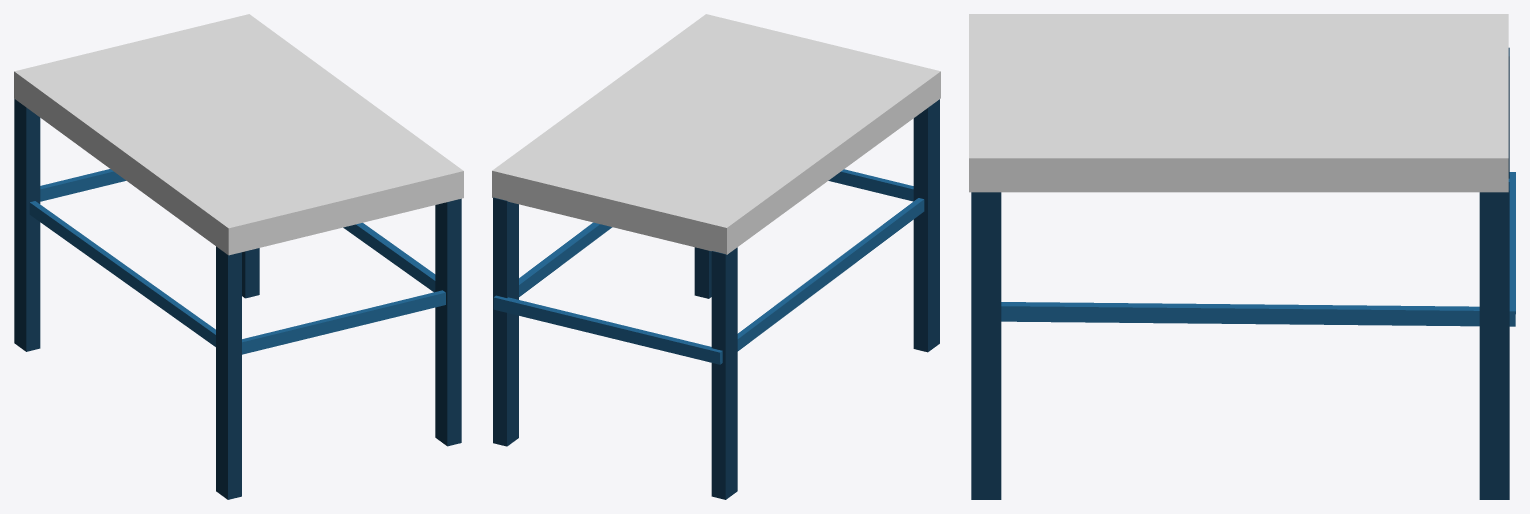
The model's file is Jail_SmallTable.fbx.
3 views of the same model, side by side, from view 1: azimuth 30°, elevation 25°; view 2: azimuth 150°, elevation 25°; view 3: azimuth 270°, elevation 25° (orthographic). The views are drawn at different scales.
Parts seen in each view (by area): view 1: Sail_SmallTable; view 2: Sail_SmallTable; view 3: Sail_SmallTable.
Boxes of the visible parts, <box> form: Sail_SmallTable: <box>14,14,463,499</box>; Sail_SmallTable: <box>492,14,940,499</box>; Sail_SmallTable: <box>969,14,1515,499</box>.
Size of the model in its own units: 0.852 by 0.9424 by 1.36.
